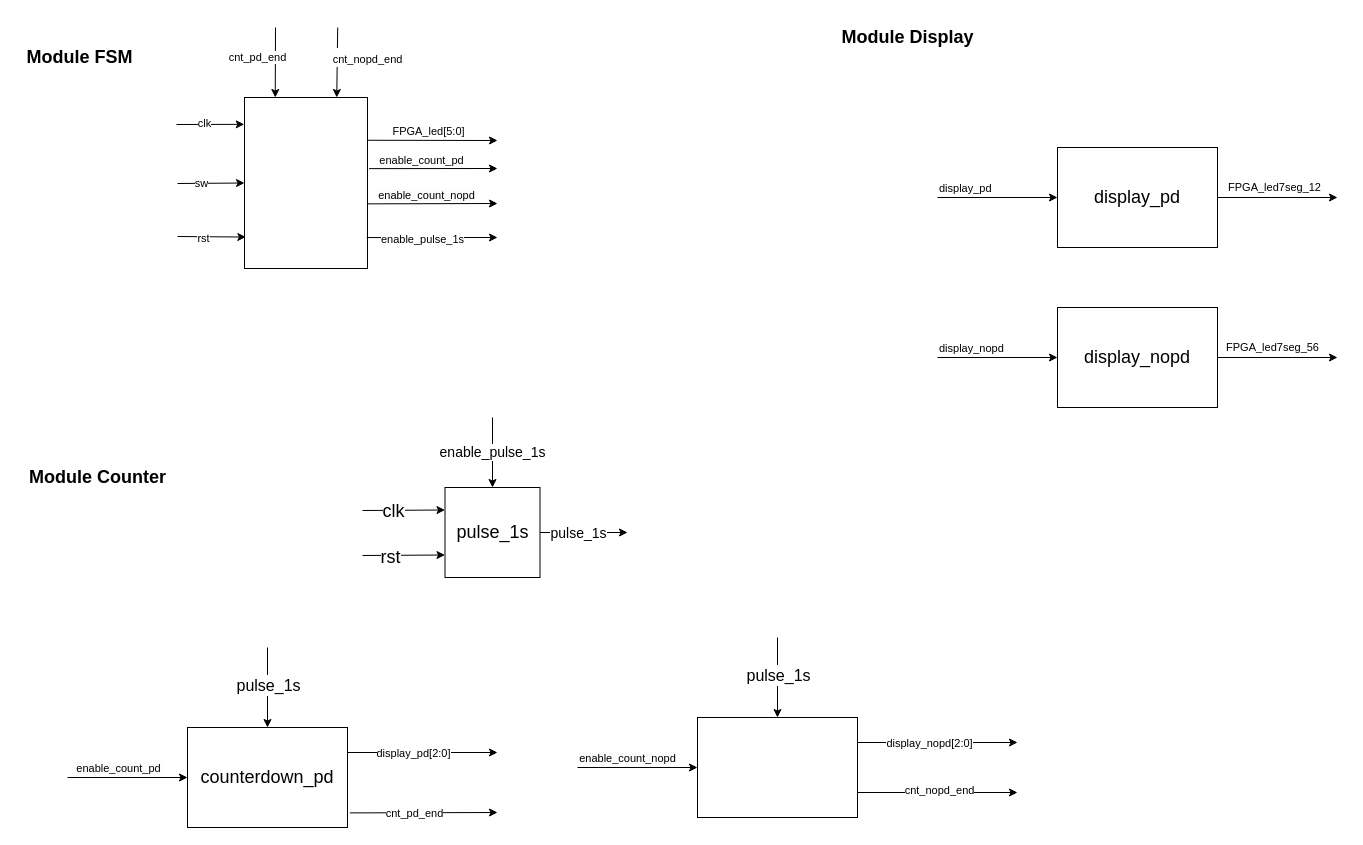
The diagram is 1363 pixels wide and 845 high, and some of its shapes have lost their labels. The box of each missing label's shape, as (x1, y1, x2, y2) in pixels:
counterdown_nopd: (696, 716, 858, 818)
fsm: (244, 96, 368, 268)
